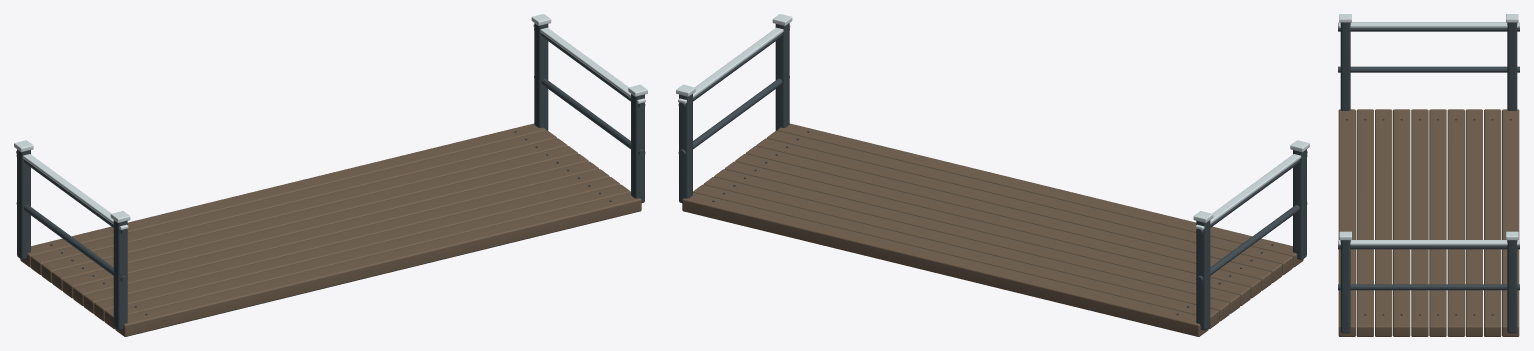
The model's file is boardwalk.glb.
3 renders of one model, left to right at view 1: azimuth 30°, elevation 25°; view 2: azimuth 150°, elevation 25°; view 3: azimuth 270°, elevation 25°, orthographic. The views are drawn at different scales.
Visible parts, largest first — view 1: Board, Board.003, Board.004, Board.002, Board.001, Board.005, Board.007, Board.008, Board.006, Board.009, Rail_post, Rail_post.003 (+6 smaller); view 2: Board.009, Board.006, Board.005, Board.007, Board.008, Board.004, Board.002, Board.001, Board.003, Board, Rail_post.001, Rail_post.002 (+6 smaller); view 3: Board.004, Board.005, Board.001, Board.002, Board.003, Board.006, Board.007, Board.008, Board, Board.009, Rail, Rail.002 (+8 smaller).
Boxes of the visible parts, x1,y1,x2,y2 form: Board: [115, 192, 641, 336]; Board.003: [83, 169, 609, 313]; Board.004: [73, 161, 598, 305]; Board.002: [94, 177, 620, 321]; Board.001: [104, 184, 630, 329]; Board.005: [62, 154, 588, 298]; Board.007: [41, 138, 567, 282]; Board.008: [31, 130, 556, 275]; Board.006: [52, 146, 578, 290]; Board.009: [20, 123, 546, 267]; Rail_post: [113, 220, 127, 330]; Rail_post.003: [534, 23, 548, 130]; Board.009: [682, 192, 1208, 336]; Board.006: [714, 169, 1240, 313]; Board.005: [725, 161, 1250, 305]; Board.007: [703, 177, 1229, 321]; Board.008: [693, 184, 1219, 329]; Board.004: [735, 154, 1261, 298]; Board.002: [756, 138, 1282, 282]; Board.001: [767, 130, 1292, 275]; Board.003: [745, 146, 1271, 290]; Board: [777, 123, 1303, 267]; Rail_post.001: [1196, 220, 1210, 330]; Rail_post.002: [775, 23, 789, 130]; Board.004: [1411, 109, 1428, 336]; Board.005: [1429, 109, 1446, 336]; Board.001: [1356, 109, 1373, 336]; Board.002: [1375, 109, 1392, 336]; Board.003: [1393, 109, 1410, 336]; Board.006: [1447, 109, 1464, 336]; Board.007: [1465, 109, 1482, 336]; Board.008: [1484, 109, 1501, 336]; Board: [1338, 109, 1355, 336]; Board.009: [1502, 109, 1519, 336]; Rail: [1338, 66, 1519, 72]; Rail.002: [1338, 284, 1519, 290].
Bounding box in the file's own units: 6.97 × 1.51 × 2.4.
